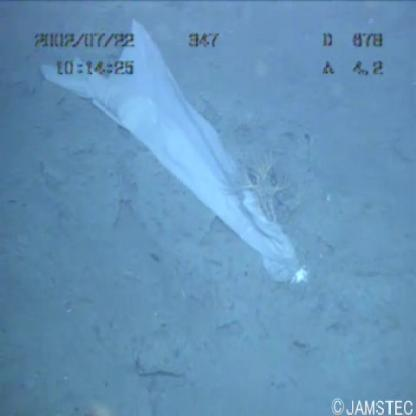Bio: (230, 148, 303, 224)
Rov: (75, 397, 122, 416)
Rác: (27, 16, 316, 297)
